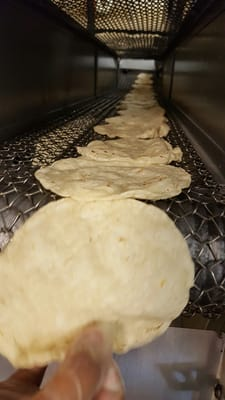steak: (1, 195, 195, 379)
taco: (1, 195, 195, 374)
